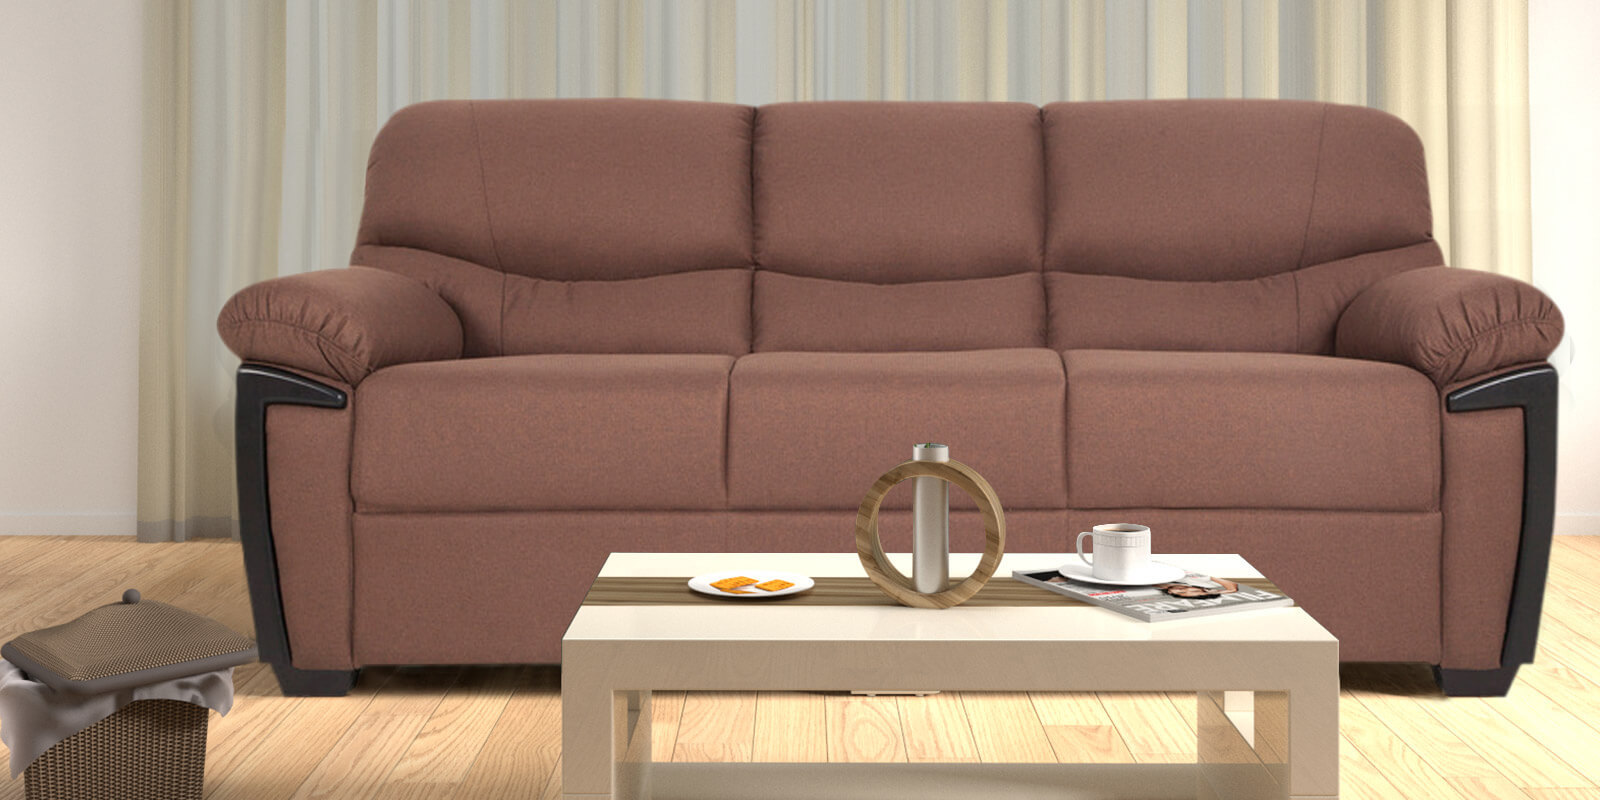Memphis Monarch Three Seater Sofa in Dark Brown Colour by Urban Living: (213, 100, 1564, 700)
